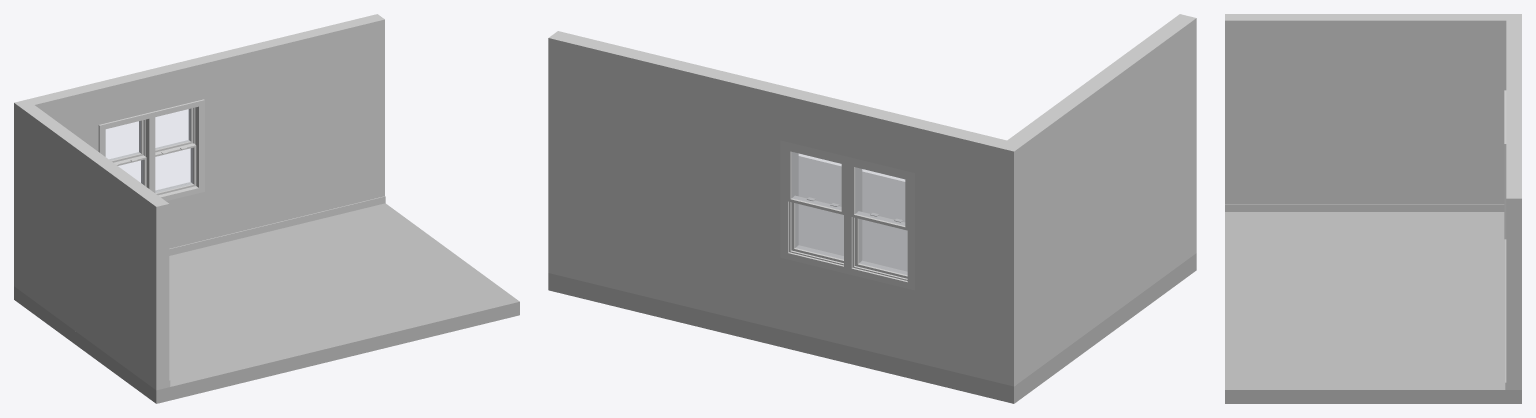
3 views of the same model, side by side, from view 1: azimuth 30°, elevation 25°; view 2: azimuth 150°, elevation 25°; view 3: azimuth 270°, elevation 25° (orthographic). The views are drawn at different scales.
Size of the model in its own units: 224 by 116 by 152.
